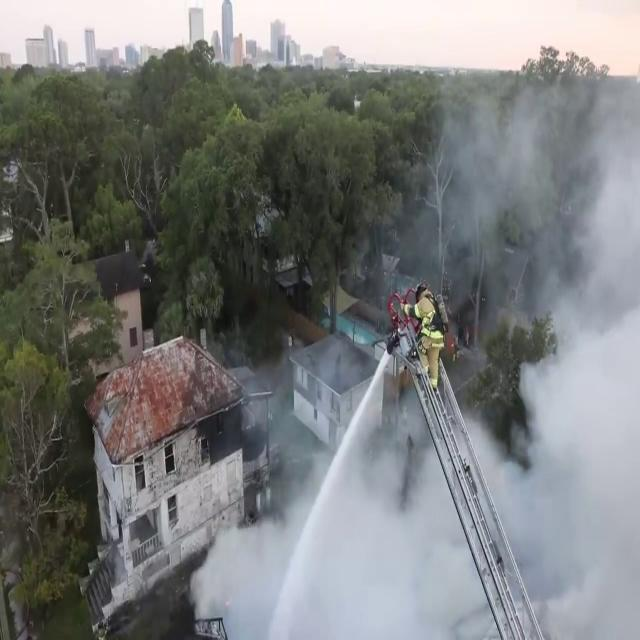Smoke: (222, 525, 372, 640)
